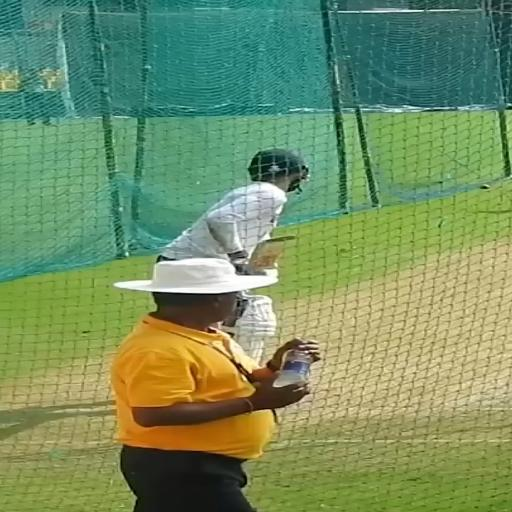Cricket bat: (250, 235, 296, 270)
